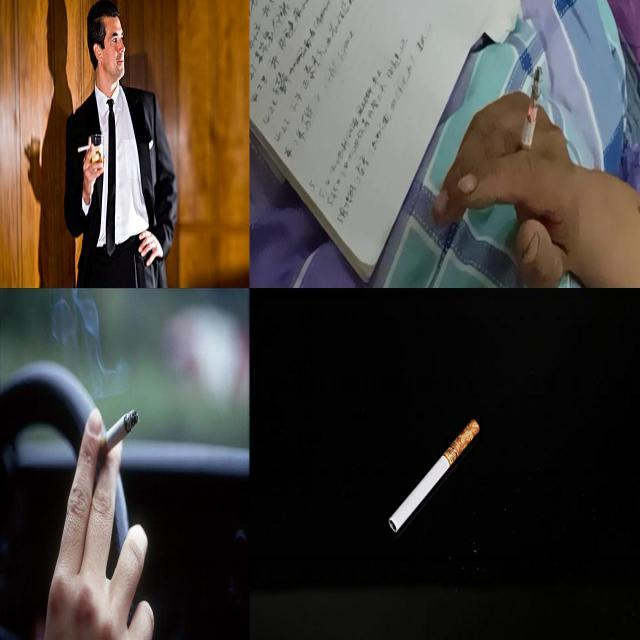smoking: (384, 417, 482, 531), (515, 68, 541, 168), (96, 409, 140, 464), (78, 145, 94, 154)
